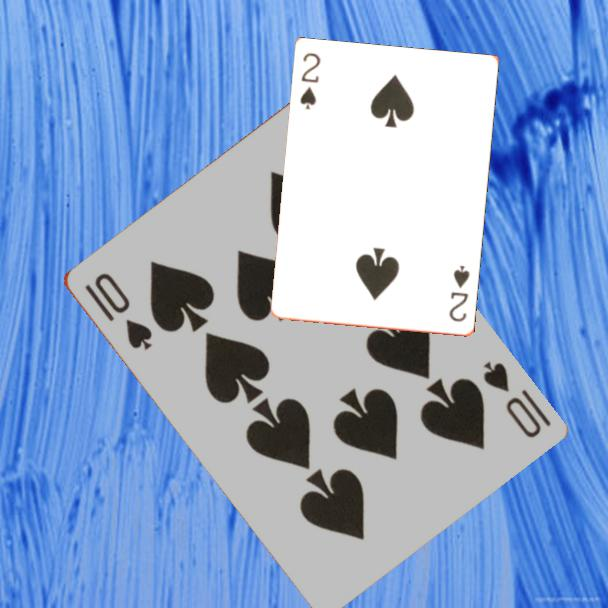s02: (446, 262, 473, 325), (297, 50, 324, 113)
s10: (80, 269, 155, 354), (478, 358, 553, 441)
